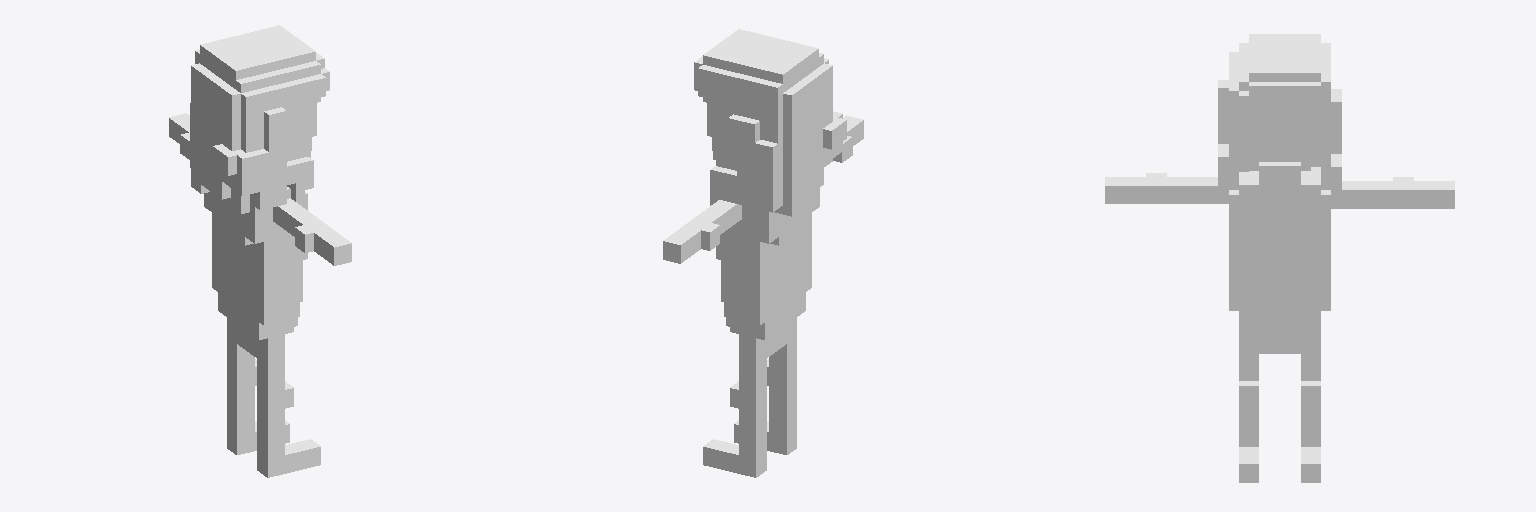
Rendered from SYellow_HBlonde.obj.
3 views of the same model, side by side, from view 1: azimuth 30°, elevation 25°; view 2: azimuth 150°, elevation 25°; view 3: azimuth 270°, elevation 25° (orthographic).
Parts seen in each view (by area): view 1: object 1; view 2: object 1; view 3: object 1.
Part boxes in pixels (bbox=[...]): object 1: bbox=[169, 25, 351, 477]; object 1: bbox=[663, 29, 863, 477]; object 1: bbox=[1105, 34, 1454, 482].
Size of the model in its own units: 1.2 by 4.4 by 3.4.